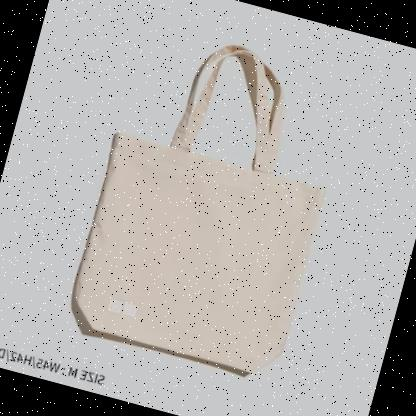bag: (49, 10, 364, 399)
